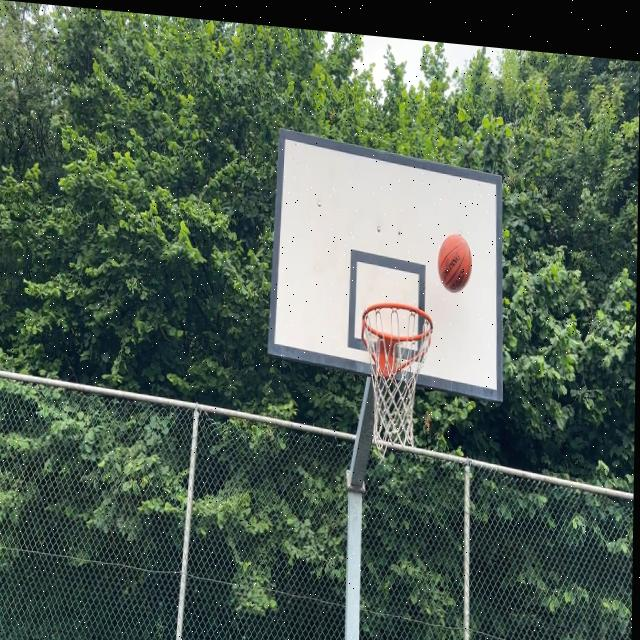Basketball: (438, 233, 473, 294)
